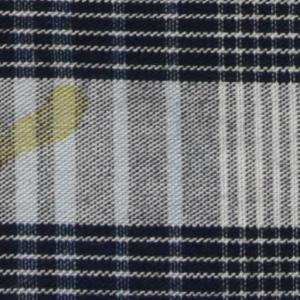Stain: (1, 80, 90, 168)
